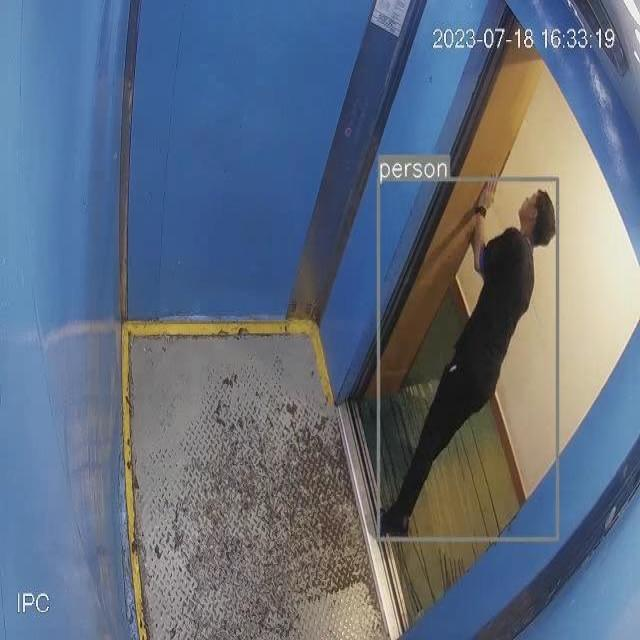person: (383, 177, 556, 540)
